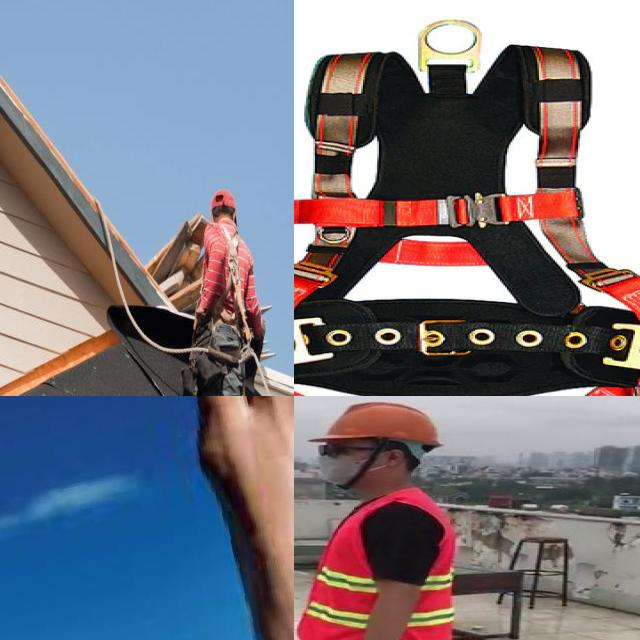Barefoots: (143, 396, 294, 640)
Harness: (294, 23, 640, 396), (204, 223, 252, 350)
No_Ear-Protection: (381, 446, 408, 471)
head_helmet: (318, 398, 442, 448)
person: (294, 396, 485, 640)
vest: (294, 490, 451, 640)
